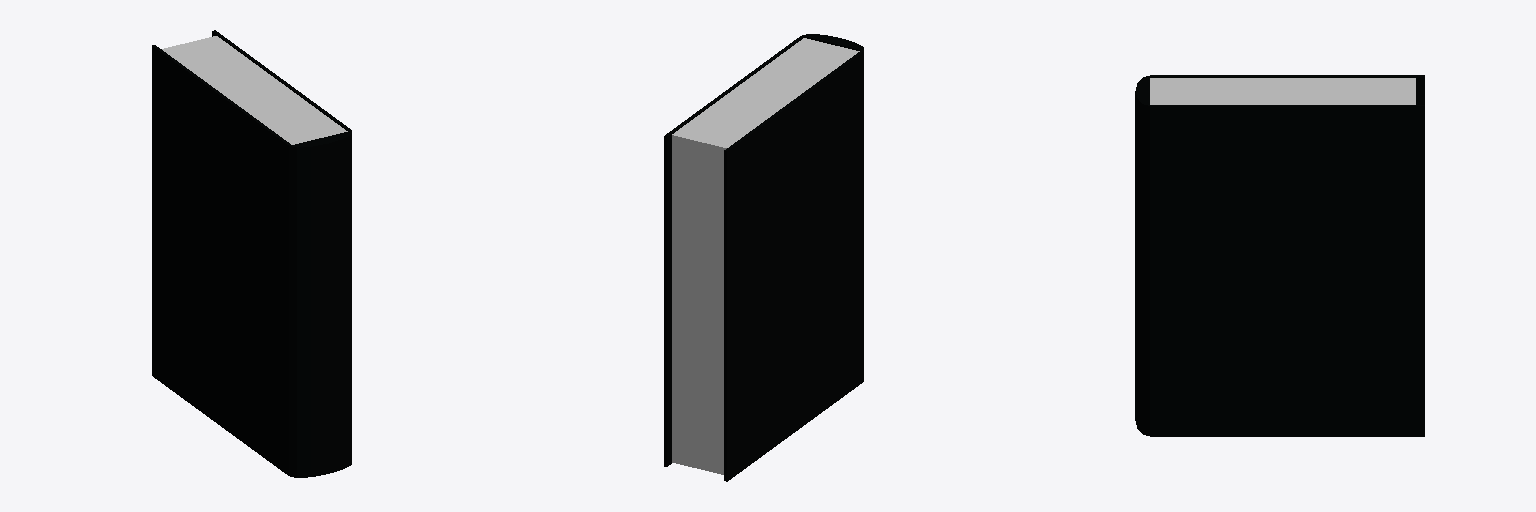
Rendered from book.obj.
The picture shows the model from 3 angles: view 1: azimuth 30°, elevation 25°; view 2: azimuth 150°, elevation 25°; view 3: azimuth 270°, elevation 25°; orthographic projection.
Visible parts, largest first — view 1: Cylinder; view 2: Cylinder; view 3: Cylinder.
Boxes of the visible parts, x1=… form: Cylinder: x1=152, y1=30, x2=351, y2=477; Cylinder: x1=664, y1=34, x2=863, y2=481; Cylinder: x1=1135, y1=75, x2=1424, y2=436.
Bounding box in the file's own units: 40 × 200 × 158.